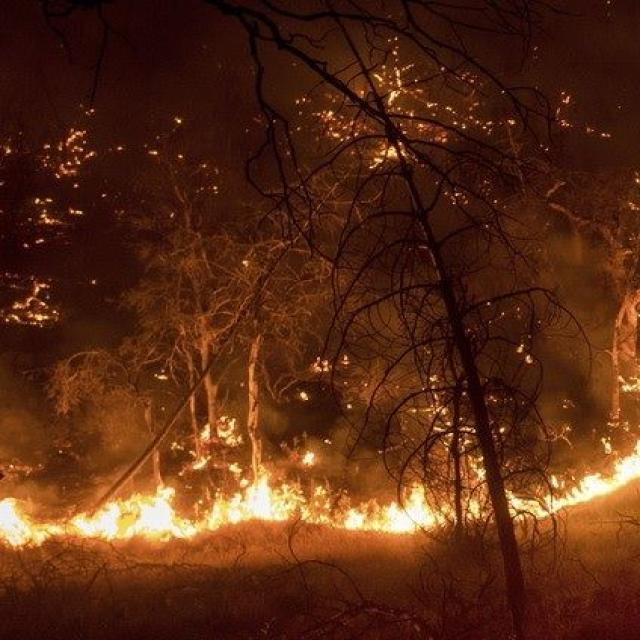Fire: (0, 426, 640, 534)
